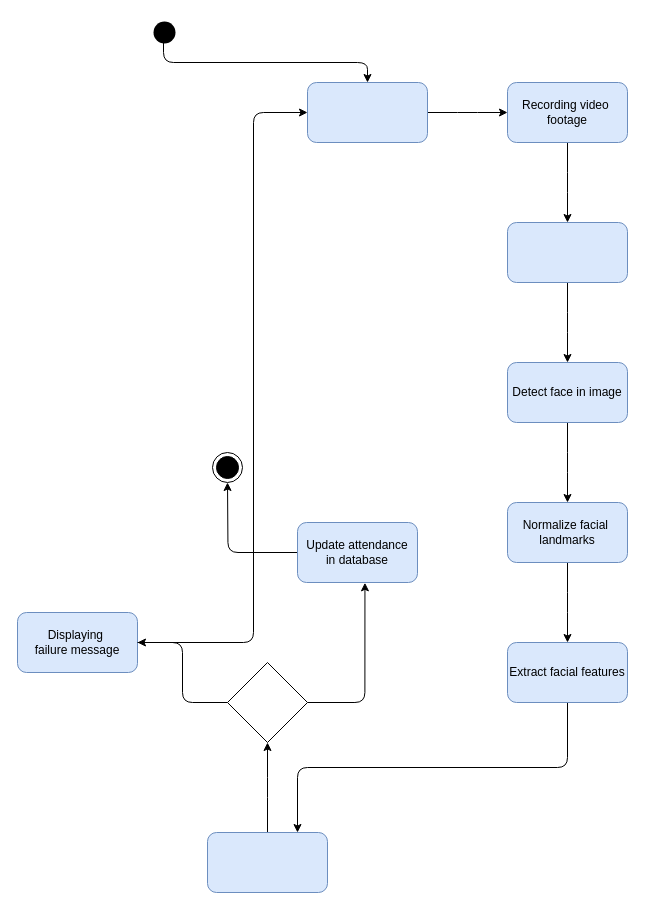
This 645x910 diagram has some shape labels left out. Here are the shapes that lost their labels. From the top down, the centre of each, then its label:
the point at 367,112: Mark my attendance in / out
the point at 567,252: Capturing images
the point at 267,862: Recognize face image
